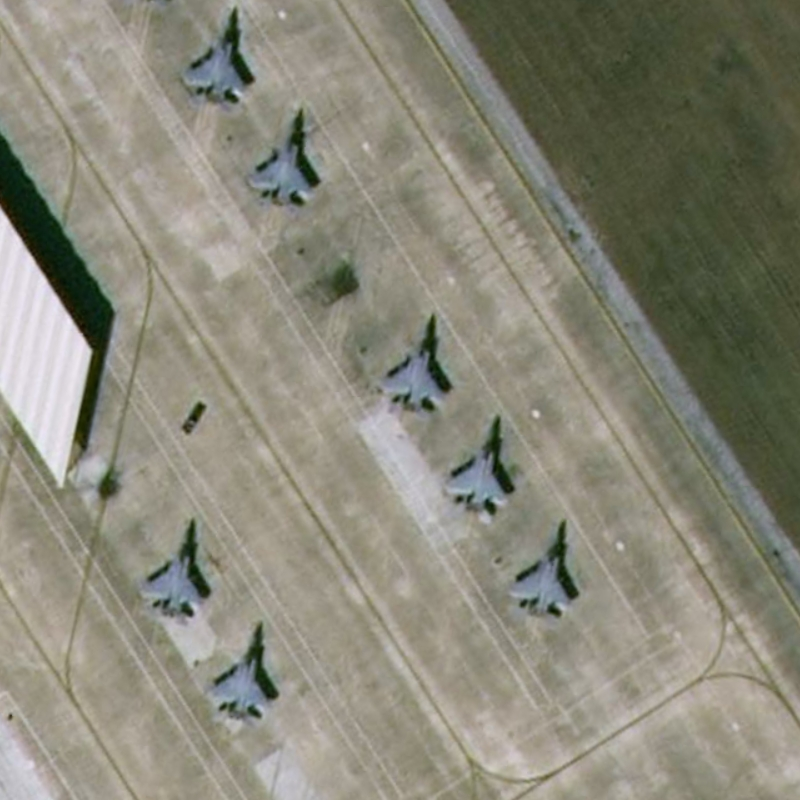A13: (176, 4, 257, 114), (375, 310, 453, 421), (132, 515, 207, 629), (242, 104, 316, 212), (439, 414, 512, 520), (501, 521, 575, 624), (206, 621, 272, 726)
